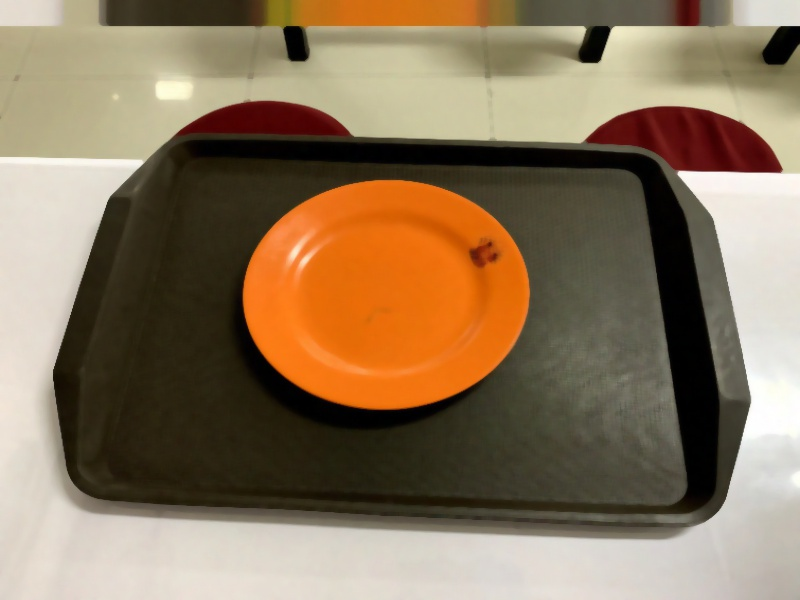dish10: (234, 176, 535, 416)
